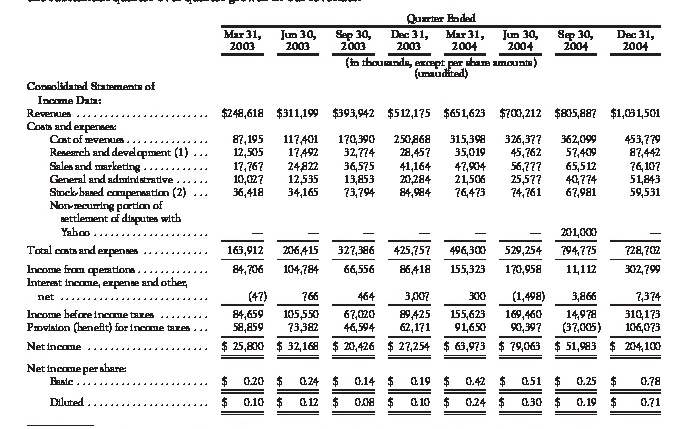table: (0, 0, 676, 429)
